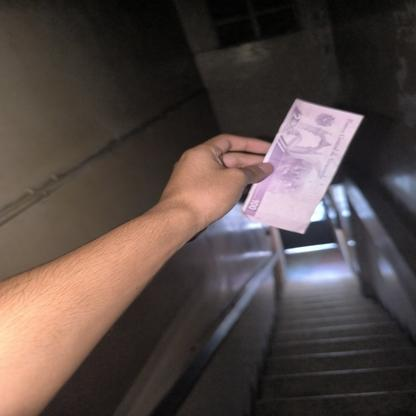one_hundred-back-vef: (240, 98, 364, 235)
